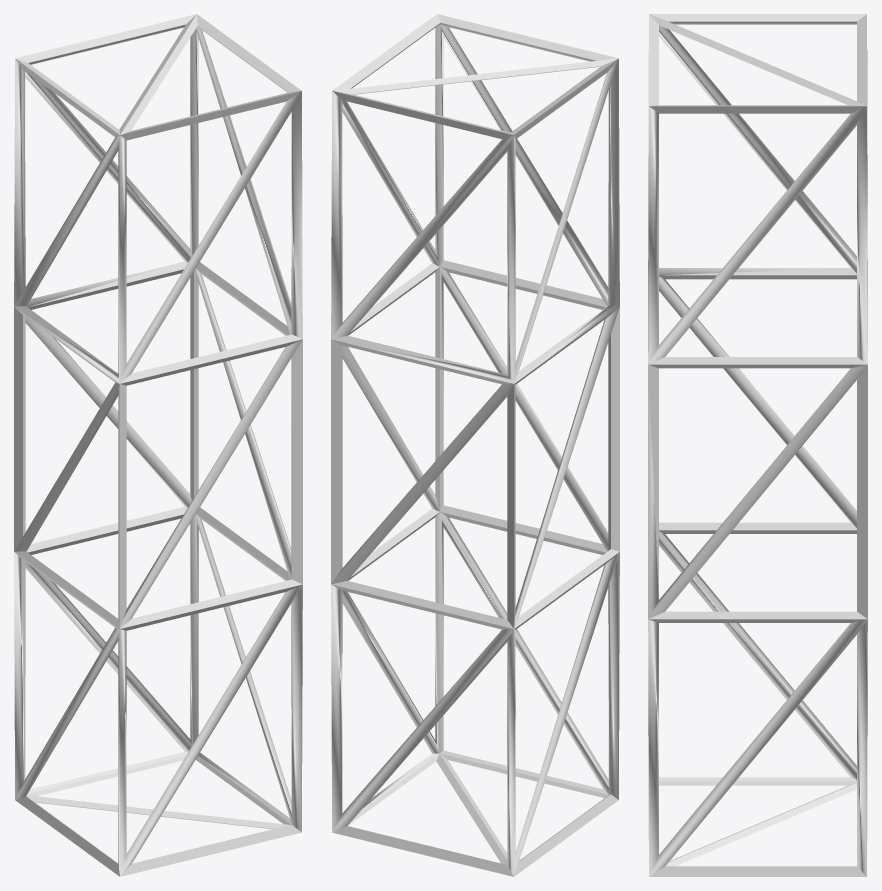
The model's file is TrussStructure.glb.
3 renders of one model, left to right at view 1: azimuth 30°, elevation 25°; view 2: azimuth 150°, elevation 25°; view 3: azimuth 270°, elevation 25°, orthographic. The views are drawn at different scales.
Visible parts, largest first — view 1: TrussStructure; view 2: TrussStructure; view 3: TrussStructure.
Part boxes in pixels (x1,y1,x2,y2): TrussStructure: [14, 14, 302, 876]; TrussStructure: [331, 14, 619, 876]; TrussStructure: [648, 14, 867, 876].
Bounding box in the file's own units: 1.04 × 4.03 × 1.04.
Materials: 1 (1 with a texture image).
